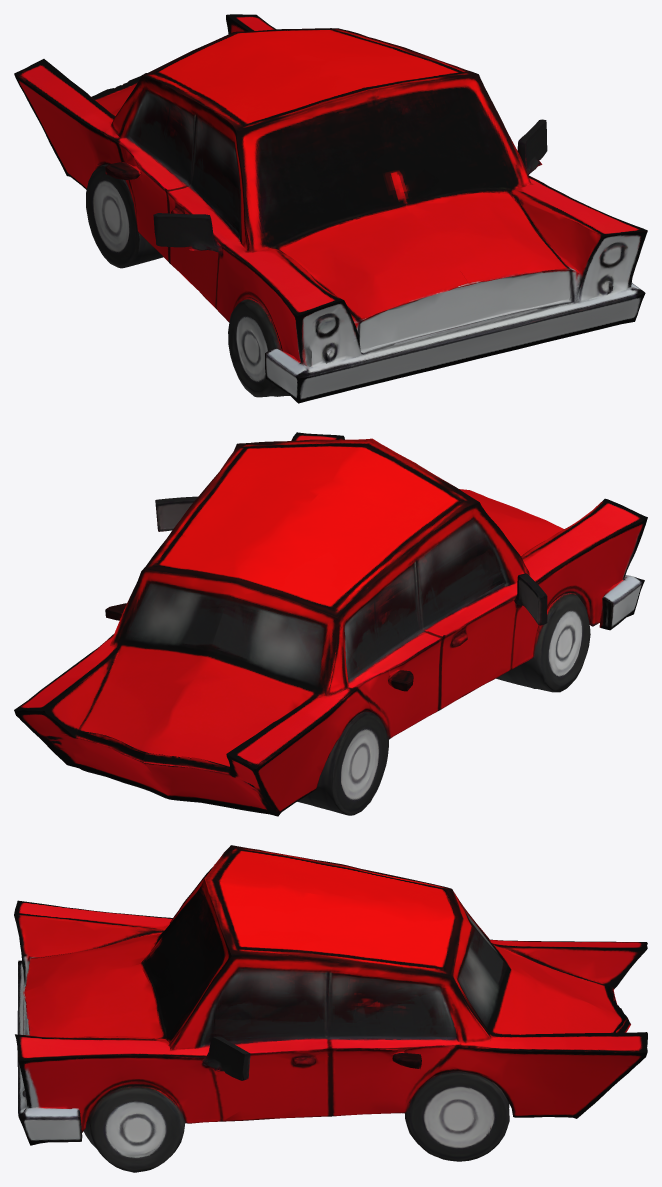
File: cartoon-car.glb
3 renders of one model, top to bottom at view 1: azimuth 30°, elevation 25°; view 2: azimuth 150°, elevation 25°; view 3: azimuth 270°, elevation 25°, orthographic. The views are drawn at different scales.
Parts seen in each view (by area): view 1: world_0; view 2: world_0; view 3: world_0.
Boxes of the visible parts, bbox=[...] form: world_0: bbox=[14, 14, 647, 403]; world_0: bbox=[14, 432, 647, 816]; world_0: bbox=[14, 845, 647, 1172].
Size of the model in its own units: 0.6656 by 0.3949 by 0.9995.
1 material, 1 textured.
